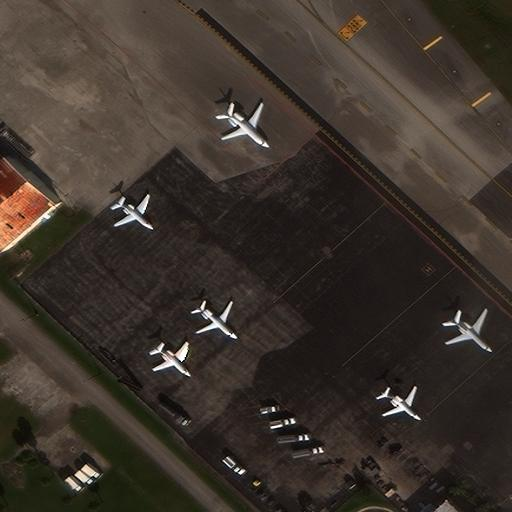Medium Civil Transport: (221, 103, 269, 148), (446, 308, 492, 351), (195, 301, 237, 339), (380, 385, 420, 420), (115, 194, 152, 230), (153, 343, 191, 376)
